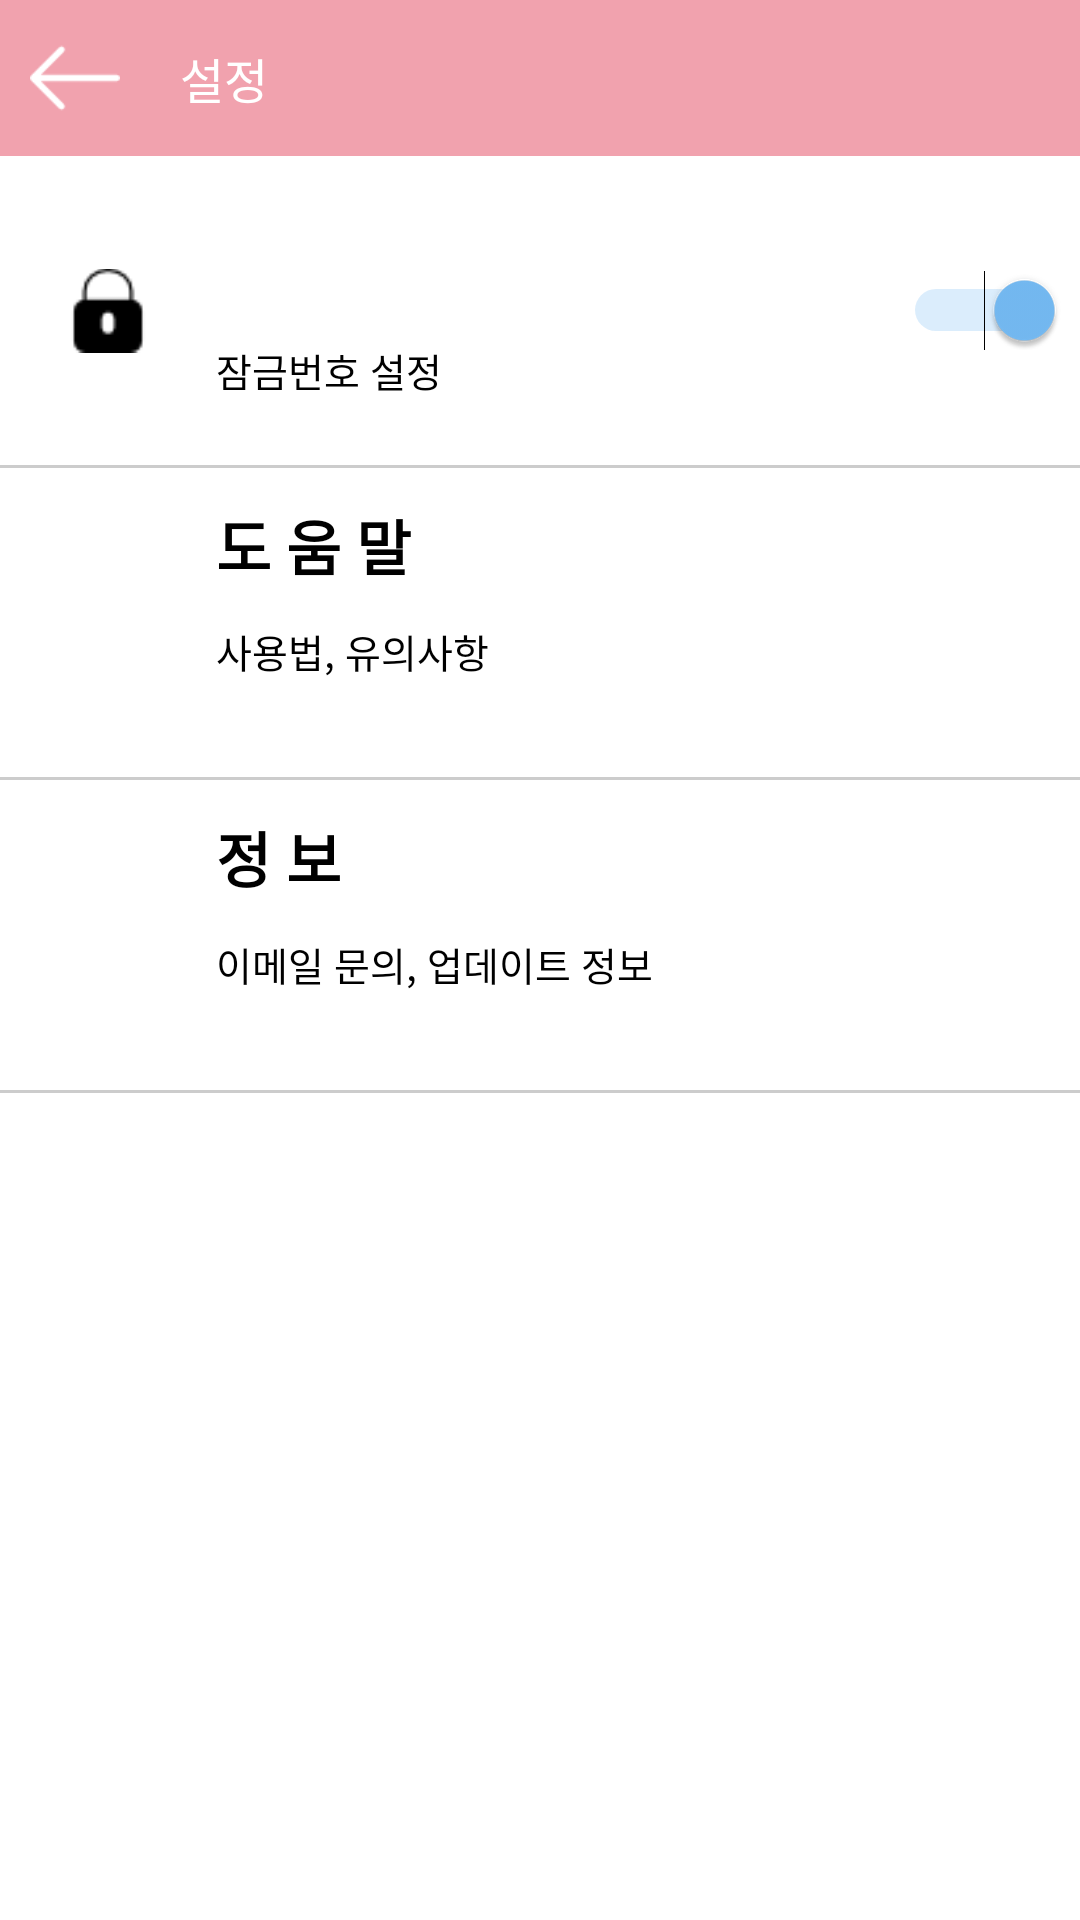

Named icons in this screenshot (1080px×1920px) and their centers, point (x, y):
arrow: point (75, 78)
locked: point (108, 311)
